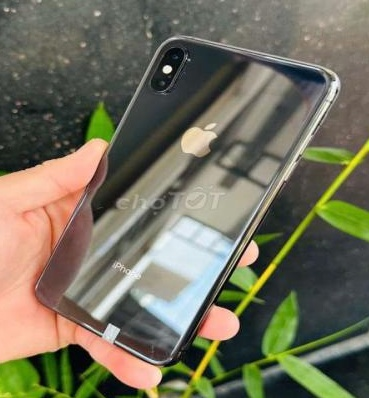scratch: (139, 340, 169, 363), (92, 201, 115, 218), (181, 68, 189, 81), (185, 52, 194, 63)
